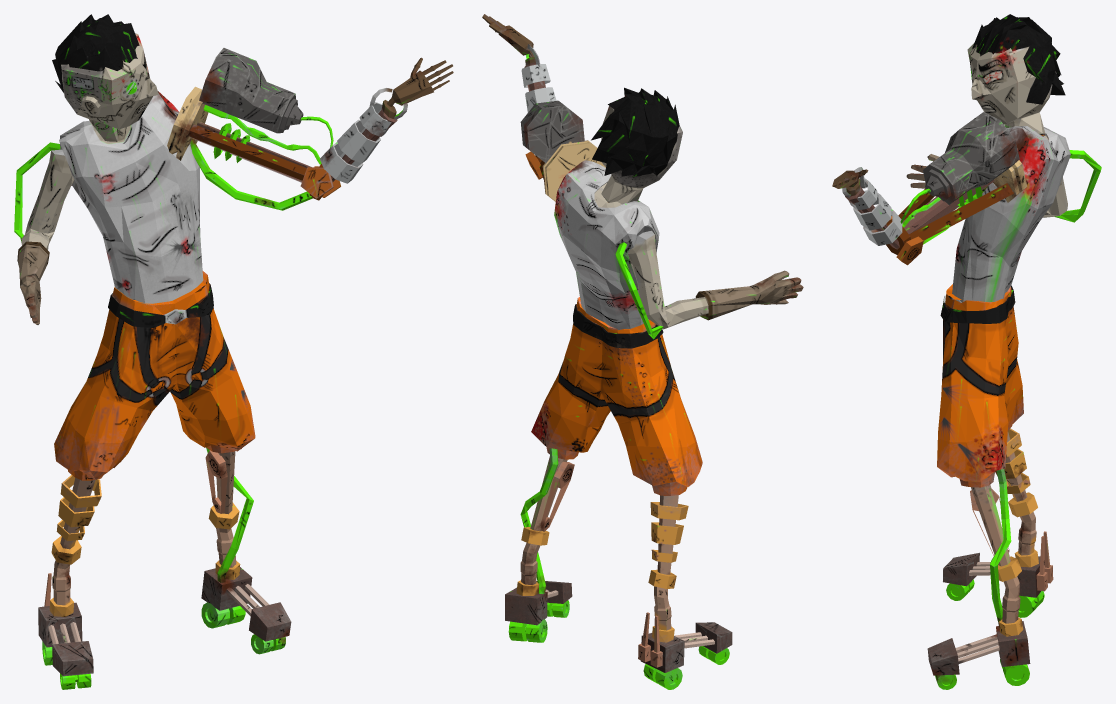
Rendered from CyborgFINALAnimation_000044.obj.
3 views of the same model, side by side, from view 1: azimuth 30°, elevation 25°; view 2: azimuth 150°, elevation 25°; view 3: azimuth 270°, elevation 25° (orthographic). The views are drawn at different scales.
Parts seen in each view (by area): view 1: CyborgMesh_Cube.002; view 2: CyborgMesh_Cube.002; view 3: CyborgMesh_Cube.002.
Boxes of the visible parts, x1,y1,x2,y2 form: CyborgMesh_Cube.002: (14,14,453,689); CyborgMesh_Cube.002: (482,14,803,689); CyborgMesh_Cube.002: (832,14,1101,689).
Bounding box in the file's own units: 6.04 × 9.56 × 3.83.
